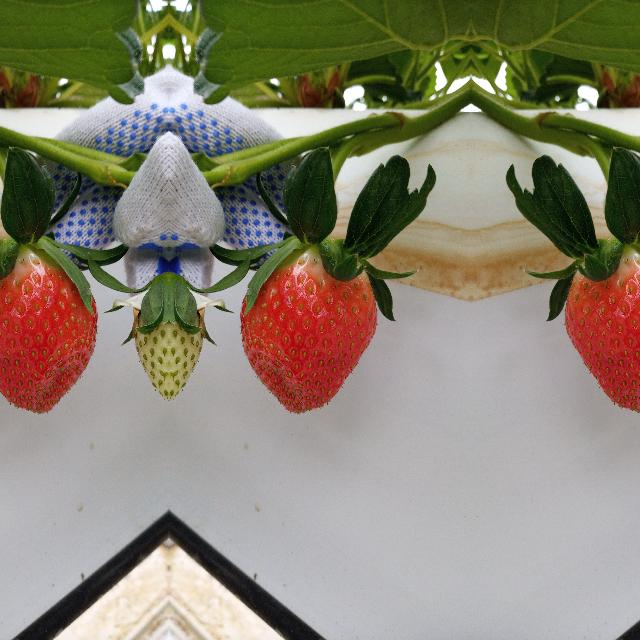Health_100: (238, 246, 378, 414), (0, 245, 97, 414), (563, 245, 640, 414)
Health_25: (168, 267, 208, 395), (128, 267, 168, 395)
